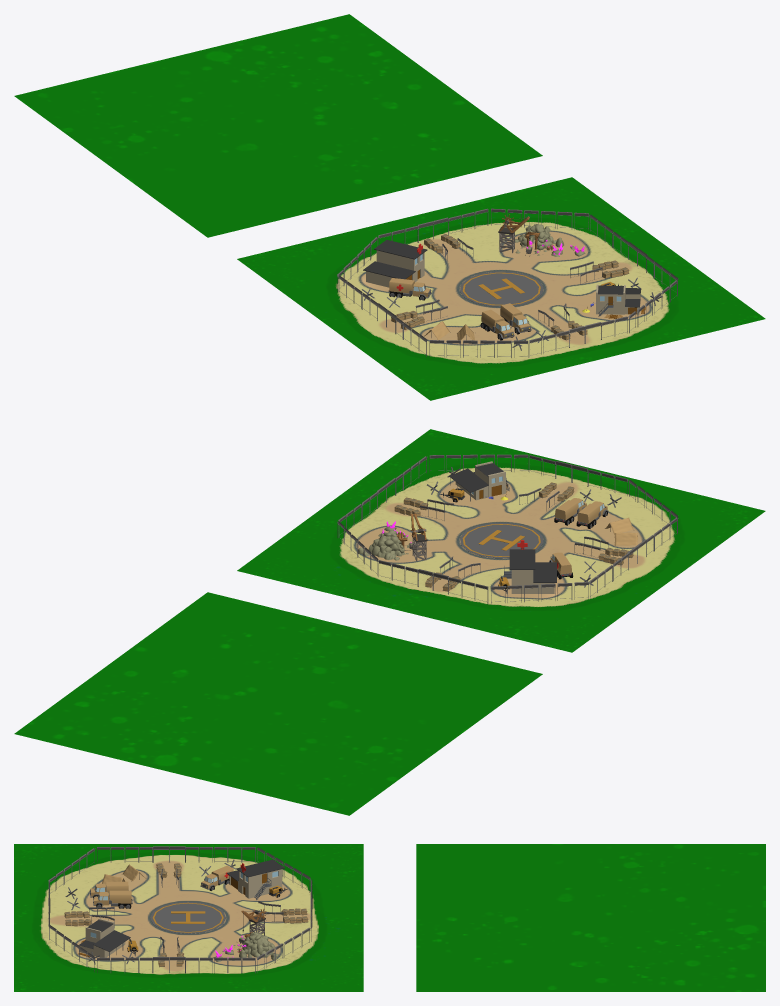
The model's file is map_demo.fbx.
3 views of the same model, one above another, from view 1: azimuth 30°, elevation 25°; view 2: azimuth 150°, elevation 25°; view 3: azimuth 270°, elevation 25° (orthographic). The views are drawn at different scales.
Parts seen in each view (by area): view 1: ground_plane, base_plane, fence, Cylinder, hospital_building, builder_house, paramedical_truck, cave_entrance; view 2: ground_plane, base_plane, fence, Cylinder, hospital_building, builder_house, cave_entrance; view 3: ground_plane, base_plane, fence, Cylinder, hospital_building, builder_house, cave_entrance, Truck, paramedical_truck, cave_crane, Truck.001.
Part boxes in pixels (x1,y1,x2,y2): ground_plane: [14, 14, 542, 237]; base_plane: [237, 177, 765, 400]; fence: [337, 208, 678, 357]; Cylinder: [460, 271, 543, 306]; hospital_building: [363, 239, 427, 287]; builder_house: [596, 284, 641, 316]; paramedical_truck: [388, 278, 431, 300]; cave_entrance: [513, 224, 563, 255]; ground_plane: [14, 592, 542, 815]; base_plane: [237, 429, 765, 652]; fence: [337, 454, 678, 603]; Cylinder: [460, 523, 543, 558]; hospital_building: [509, 549, 556, 593]; builder_house: [449, 461, 509, 501]; cave_entrance: [358, 530, 418, 560]; ground_plane: [416, 844, 765, 991]; base_plane: [14, 844, 363, 991]; fence: [48, 847, 312, 973]; Cylinder: [150, 901, 225, 933]; hospital_building: [226, 859, 284, 898]; builder_house: [79, 918, 130, 957]; cave_entrance: [233, 932, 278, 959]; Truck: [93, 890, 132, 908]; paramedical_truck: [200, 865, 233, 890]; cave_crane: [241, 908, 266, 935]; Truck.001: [89, 881, 128, 897].
Size of the model in its own units: 2000 by 216 by 4300.
